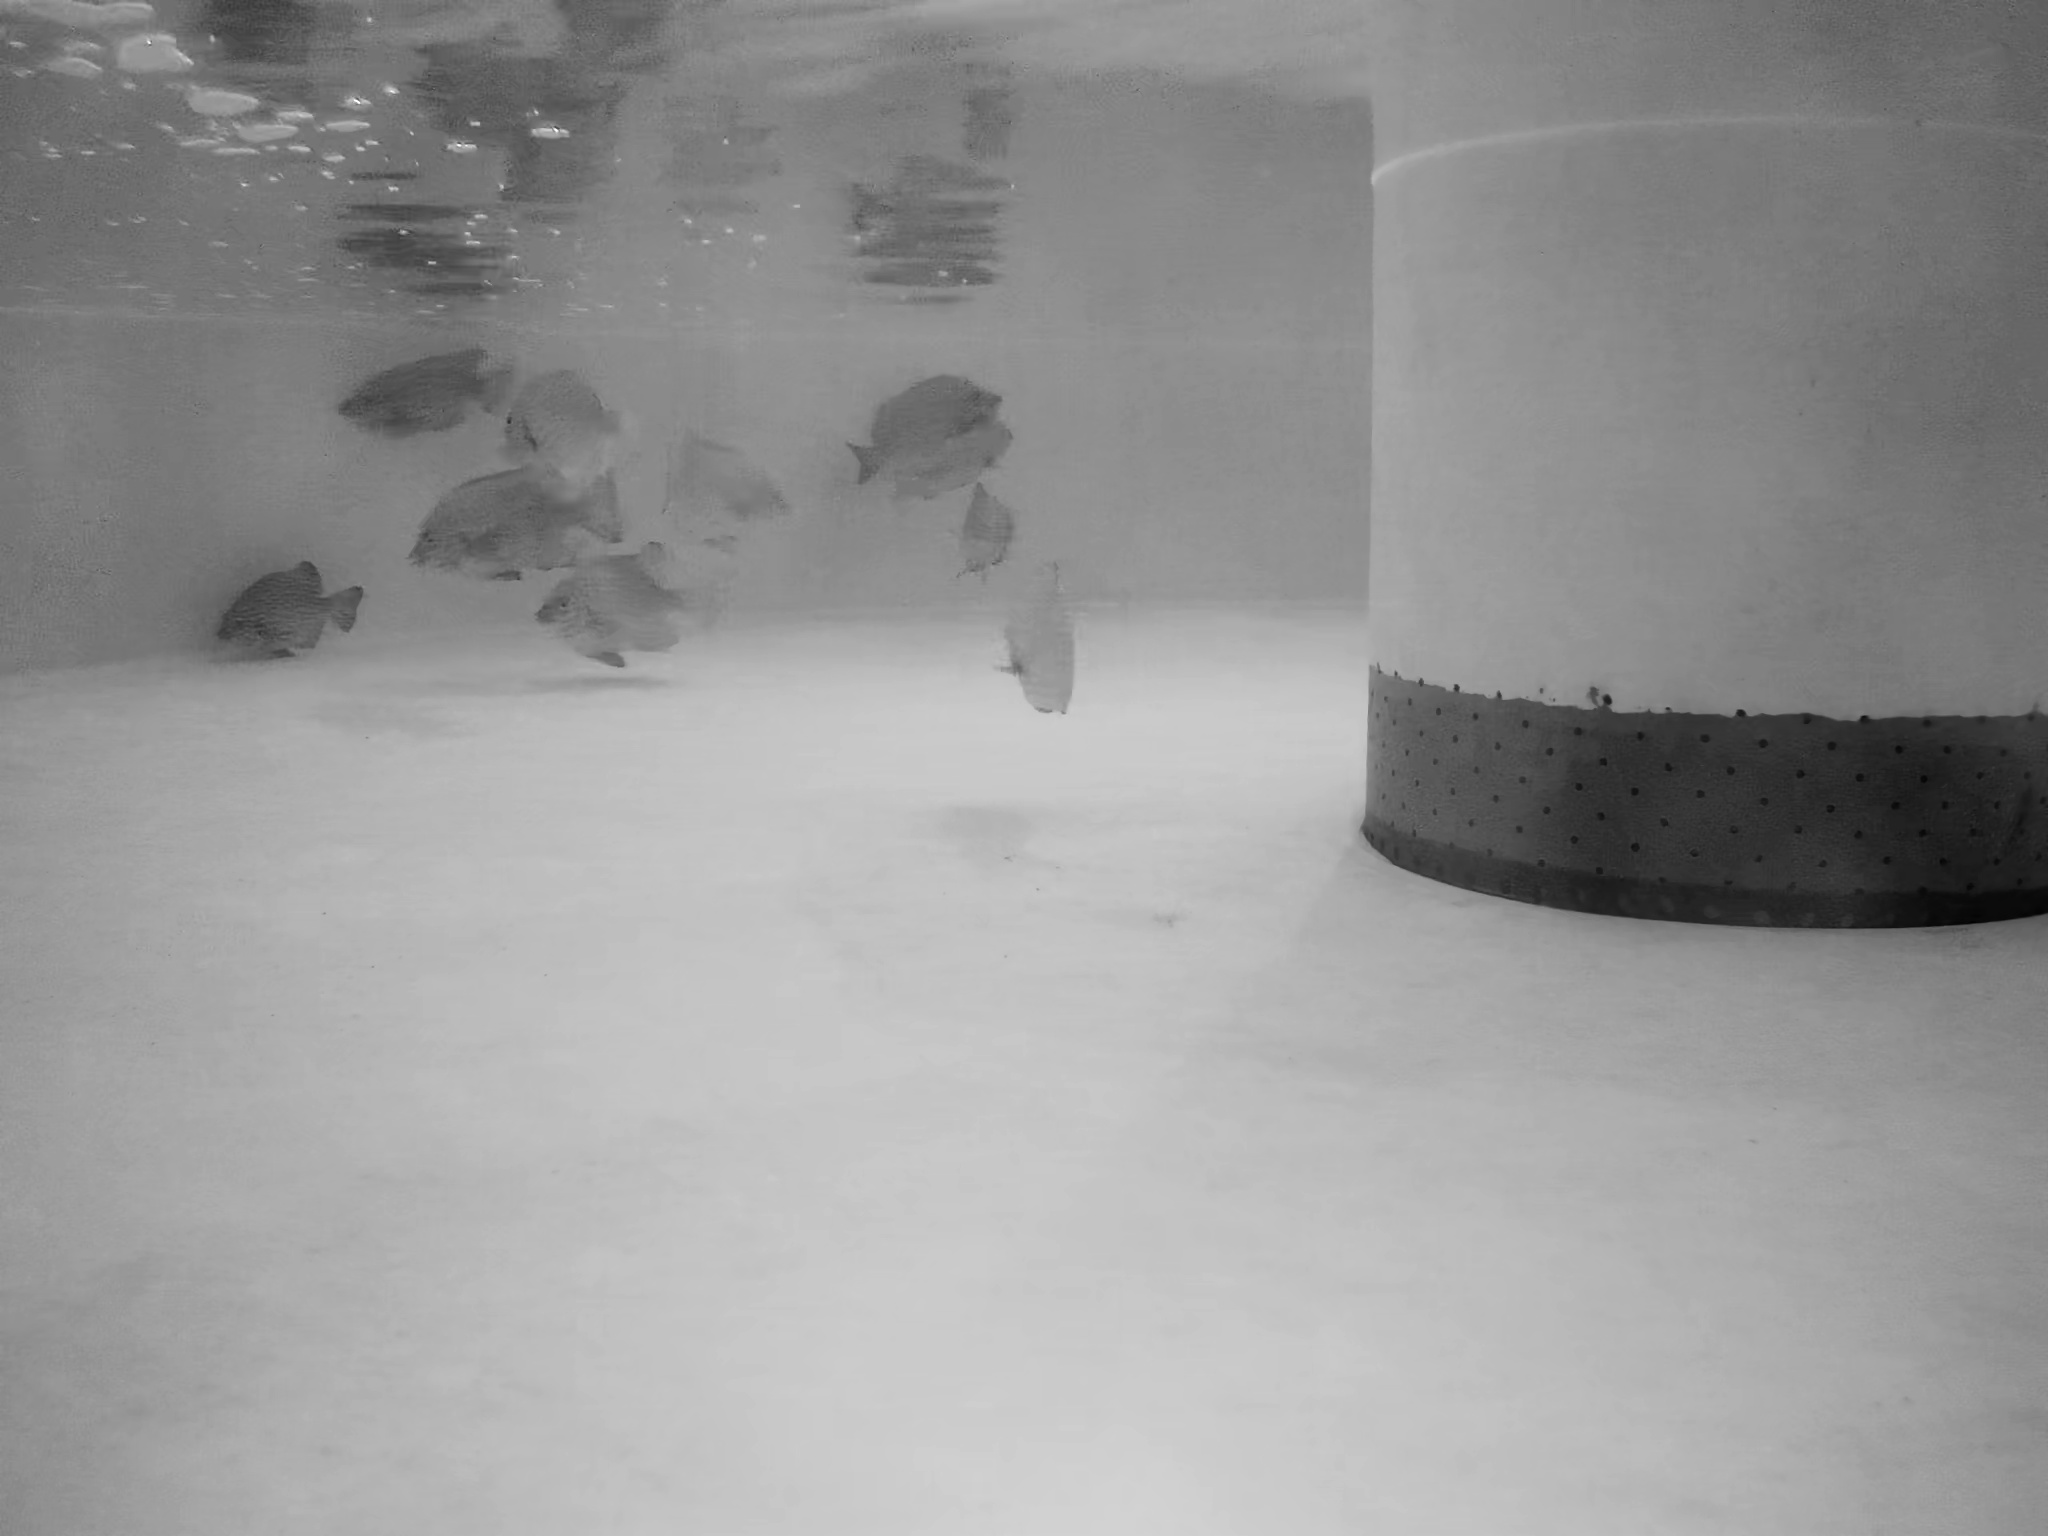fish: (398, 465, 629, 581), (534, 553, 729, 676), (326, 344, 514, 442), (993, 563, 1098, 729), (664, 429, 803, 553), (489, 365, 631, 482), (837, 381, 1006, 463), (213, 565, 364, 655), (893, 423, 1014, 500), (958, 490, 1034, 584)
